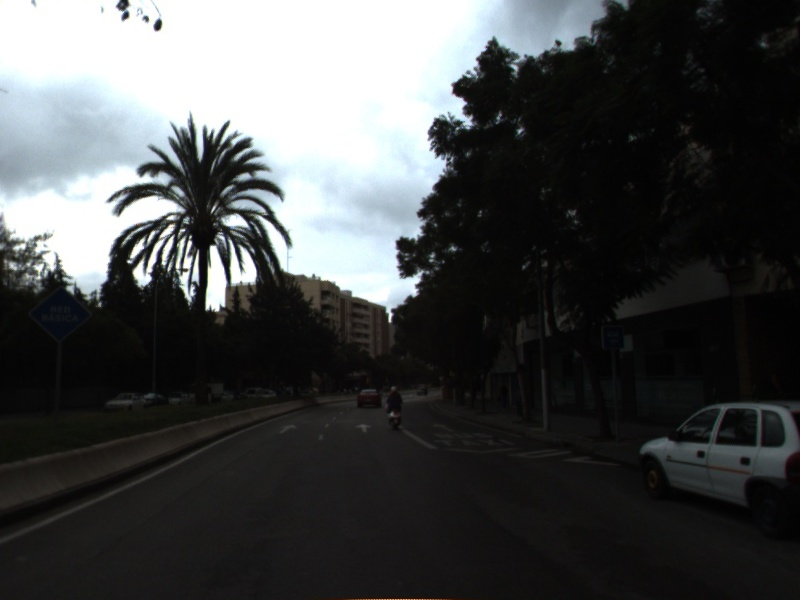STRAIGHT: (430, 421, 457, 434), (277, 422, 299, 435), (353, 421, 374, 434)
